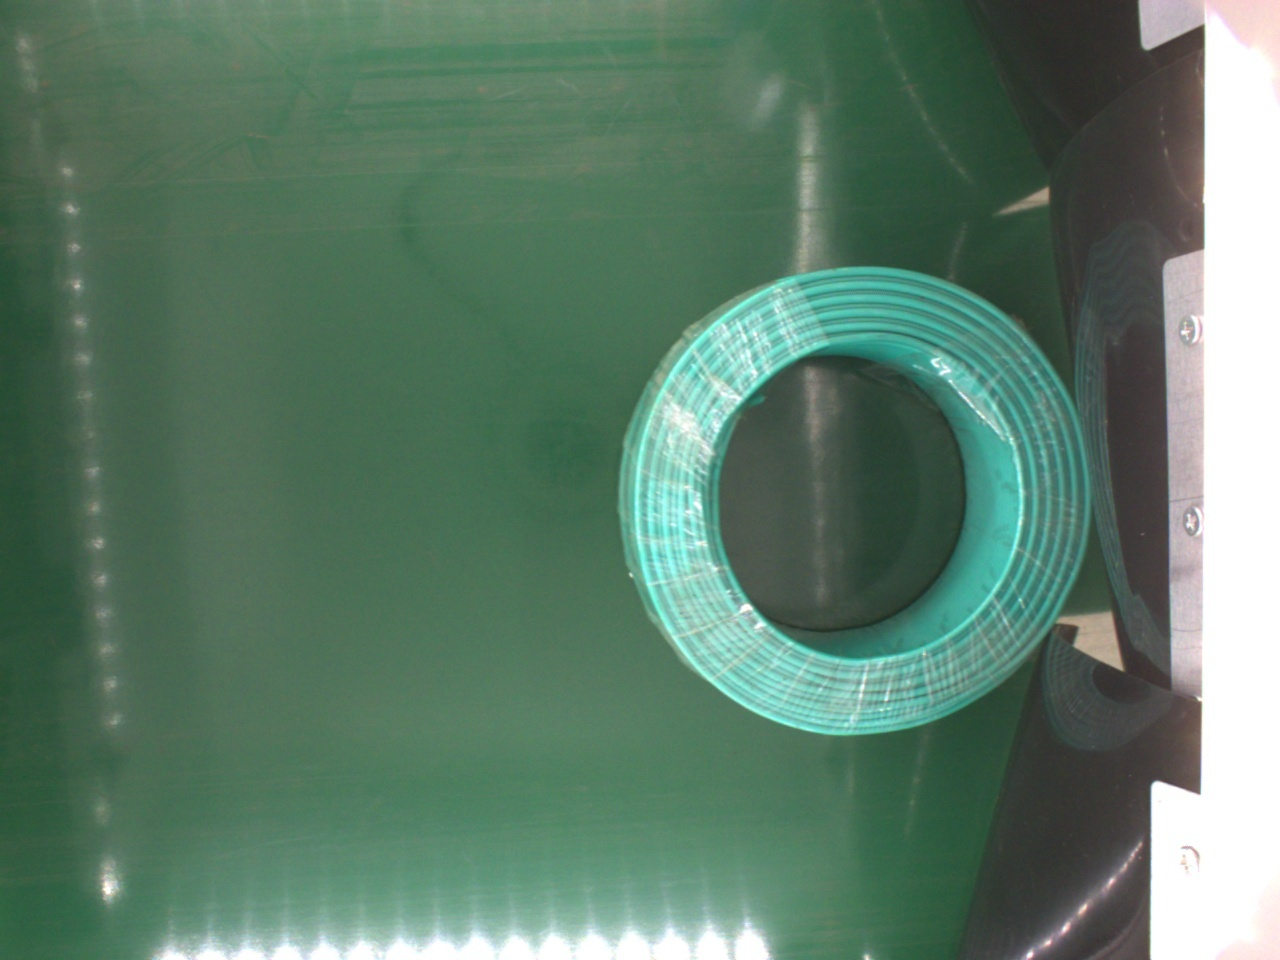green: (607, 267, 1089, 741)
